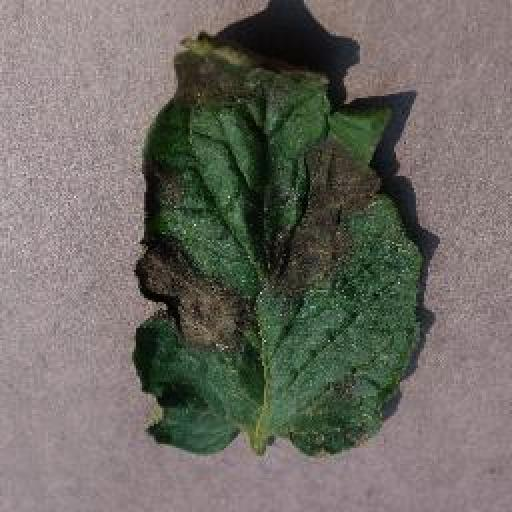disease_tomato: (126, 30, 430, 468)
